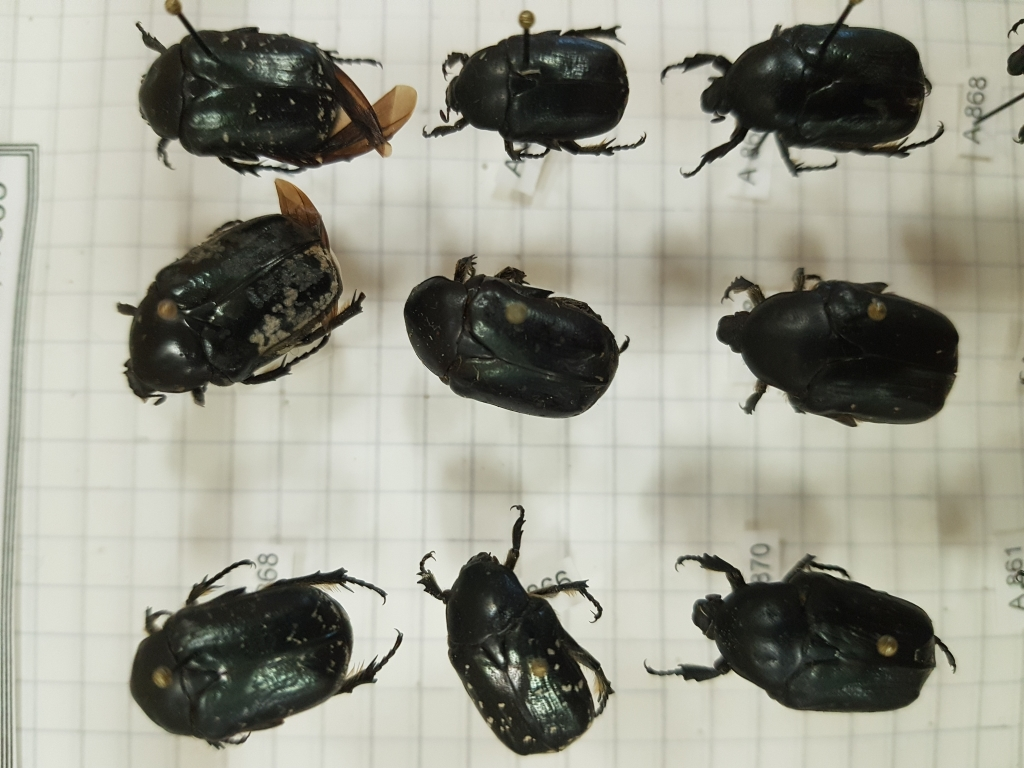Protaetia_funebris: (103, 551, 407, 751), (636, 543, 961, 720), (406, 501, 615, 759), (106, 210, 372, 409), (656, 20, 946, 175), (715, 261, 966, 429), (401, 254, 634, 422), (117, 12, 349, 174), (419, 21, 653, 171)
